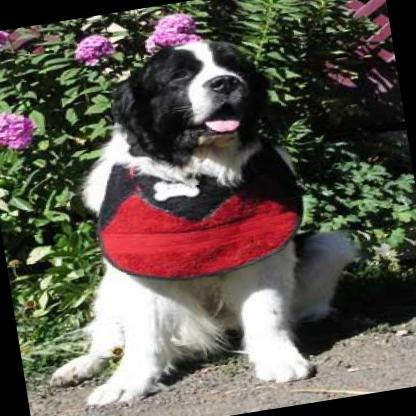Newfoundland: (0, 18, 379, 416)
